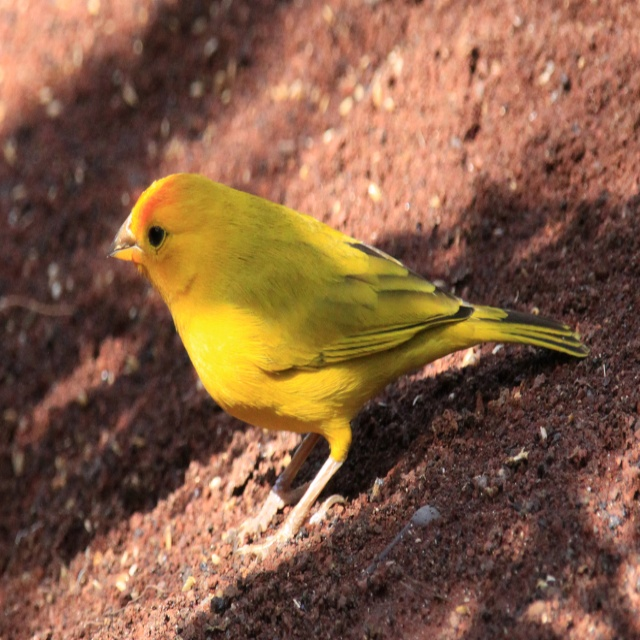Canary: (100, 168, 591, 564)
